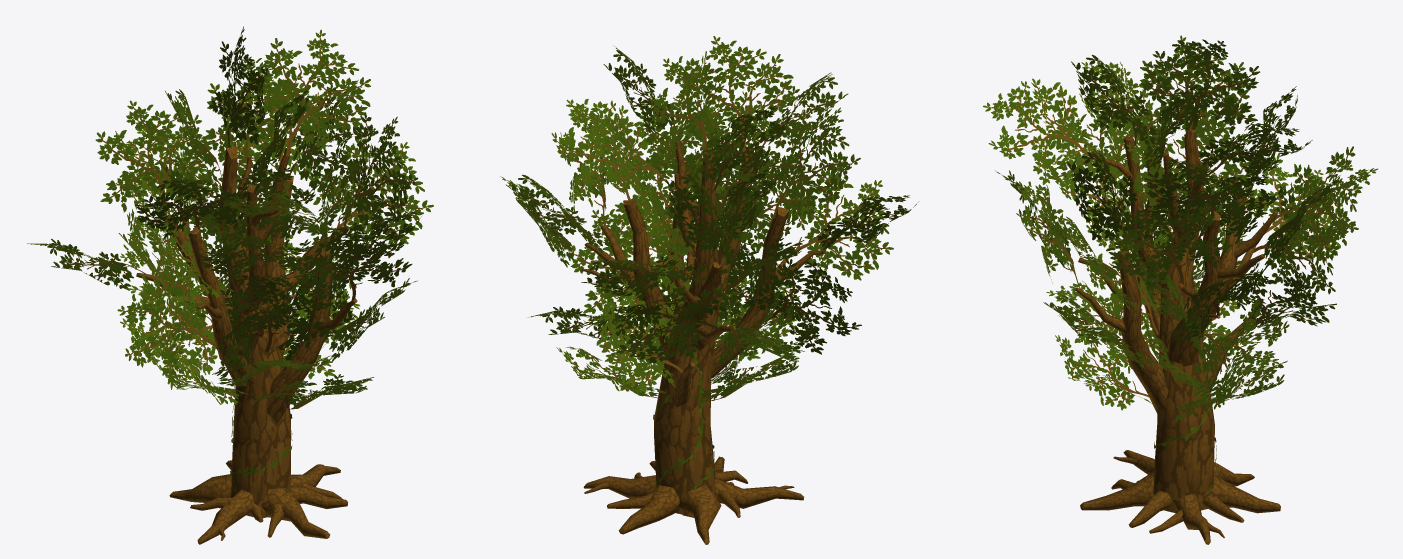
The model's file is wood_a.fbx.
3 views of the same model, side by side, from view 1: azimuth 30°, elevation 25°; view 2: azimuth 150°, elevation 25°; view 3: azimuth 270°, elevation 25° (orthographic).
Parts seen in each view (by area): view 1: wood_a; view 2: wood_a; view 3: wood_a.
Boxes of the visible parts, x1,y1,x2,y2 form: wood_a: [27, 26, 433, 544]; wood_a: [500, 36, 918, 544]; wood_a: [983, 35, 1377, 544].
Bounding box in the file's own units: 56.63 × 69.92 × 54.19.
1 material, 1 textured.
